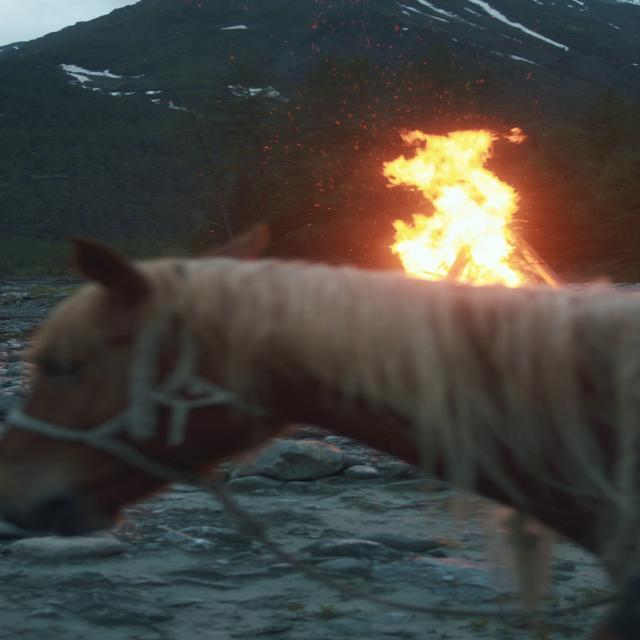Fire: (369, 114, 547, 291)
